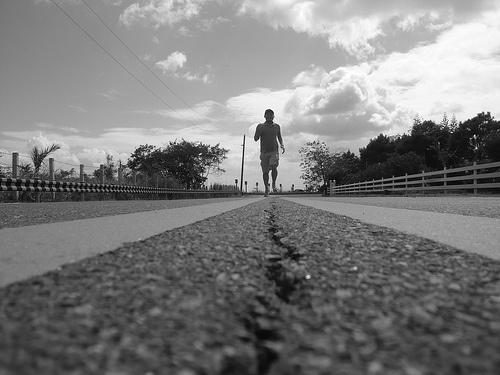Crack: (218, 197, 310, 374)
